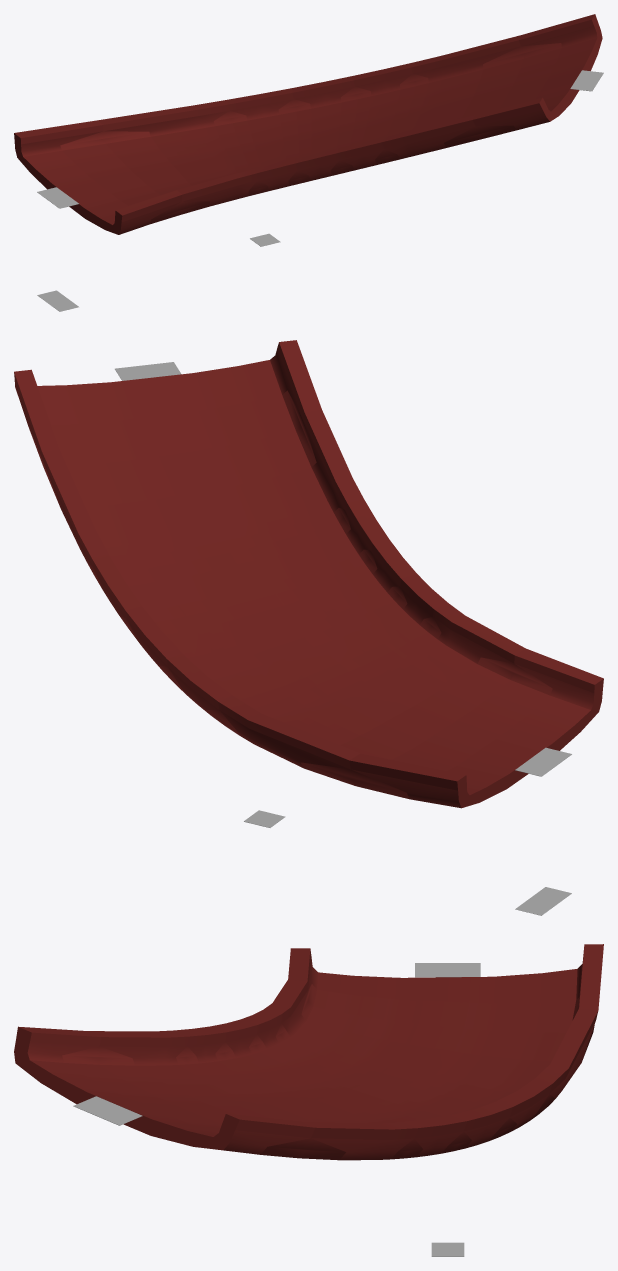
The model's file is FlatConnector45UpRightModerate.fbx.
The picture shows the model from 3 angles, top to bottom: view 1: azimuth 30°, elevation 25°; view 2: azimuth 150°, elevation 25°; view 3: azimuth 270°, elevation 25°; orthographic projection. The views are drawn at different scales.
Visible parts, largest first — view 1: pPipe3, pasted__pCube3, pasted__pCube69, pasted__pCube68; view 2: pPipe3, pasted__pCube3, pasted__pCube68, pasted__pCube69; view 3: pPipe3, pasted__pCube69, pasted__pCube3, pasted__pCube60.
Part boxes in pixels (x1,y1,x2,y2): pPipe3: (14,14,602,234); pasted__pCube3: (37,187,78,208); pasted__pCube69: (570,70,603,91); pasted__pCube68: (37,290,78,311); pPipe3: (14,340,603,808); pasted__pCube3: (515,747,571,776); pasted__pCube68: (515,887,571,915); pasted__pCube69: (115,362,181,380); pPipe3: (14,944,603,1160); pasted__pCube69: (73,1096,142,1125); pasted__pCube3: (415,963,480,977); pasted__pCube60: (431,1242,464,1256).
Bounding box in the file's own units: 24.21 × 10.98 × 17.97.
